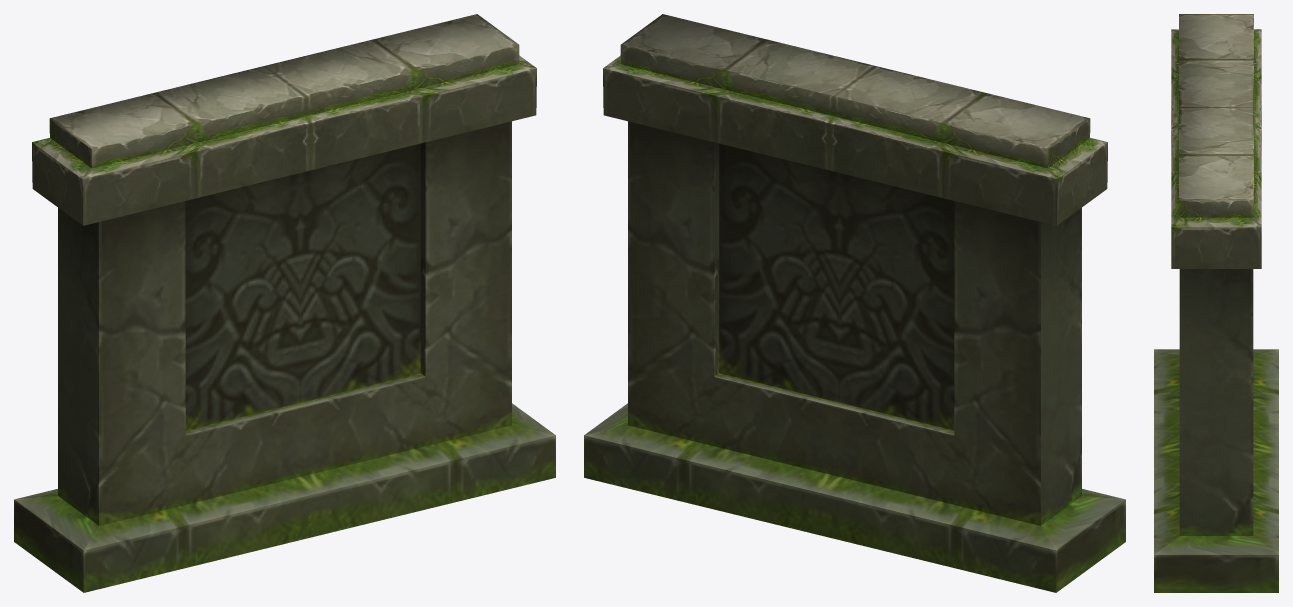
File: qiang04_01.FBX
3 views of the same model, side by side, from view 1: azimuth 30°, elevation 25°; view 2: azimuth 150°, elevation 25°; view 3: azimuth 270°, elevation 25° (orthographic). The views are drawn at different scales.
Visible parts, largest first — view 1: qiang04_01; view 2: qiang04_01; view 3: qiang04_01.
Boxes of the visible parts, bbox=[...] form: qiang04_01: bbox=[14, 14, 555, 592]; qiang04_01: bbox=[584, 14, 1125, 592]; qiang04_01: bbox=[1154, 14, 1278, 592].
Size of the model in its own units: 365 by 316 by 93.36.
1 material, 1 textured.
